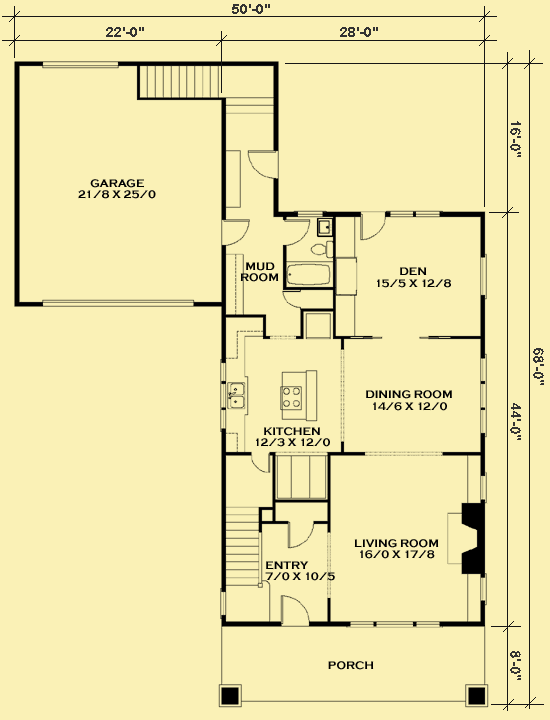door: (280, 594, 315, 627), (246, 149, 279, 180), (222, 216, 254, 246), (358, 210, 390, 240), (282, 521, 317, 548), (284, 219, 310, 247), (248, 448, 270, 473), (280, 287, 300, 310)
kitchen_bar: (279, 369, 318, 423)
stairs: (137, 61, 275, 116), (223, 498, 266, 589)
tub: (287, 261, 337, 289)
twin_sink: (225, 379, 247, 413)
window: (41, 298, 200, 309), (477, 354, 490, 440), (346, 618, 442, 628), (38, 59, 123, 70), (387, 205, 442, 221), (478, 255, 488, 303), (477, 474, 489, 505), (478, 574, 488, 606)
